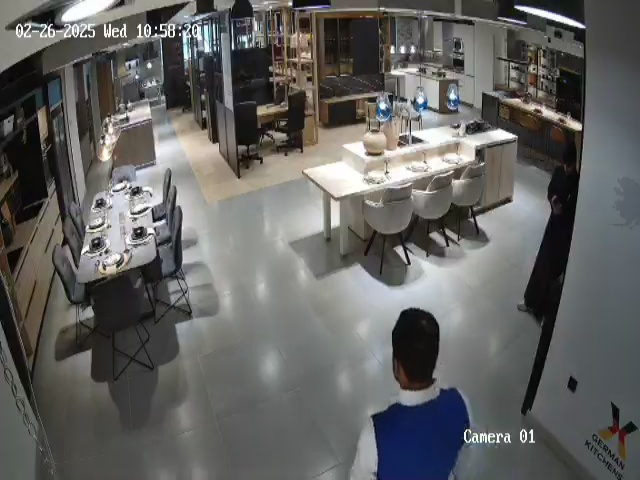employee: (349, 307, 473, 480)
male: (517, 138, 579, 319)
